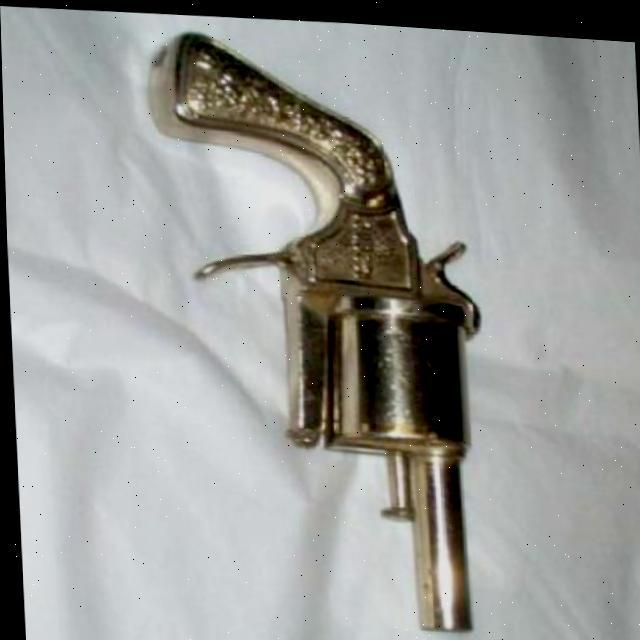gun: (145, 19, 492, 639)
